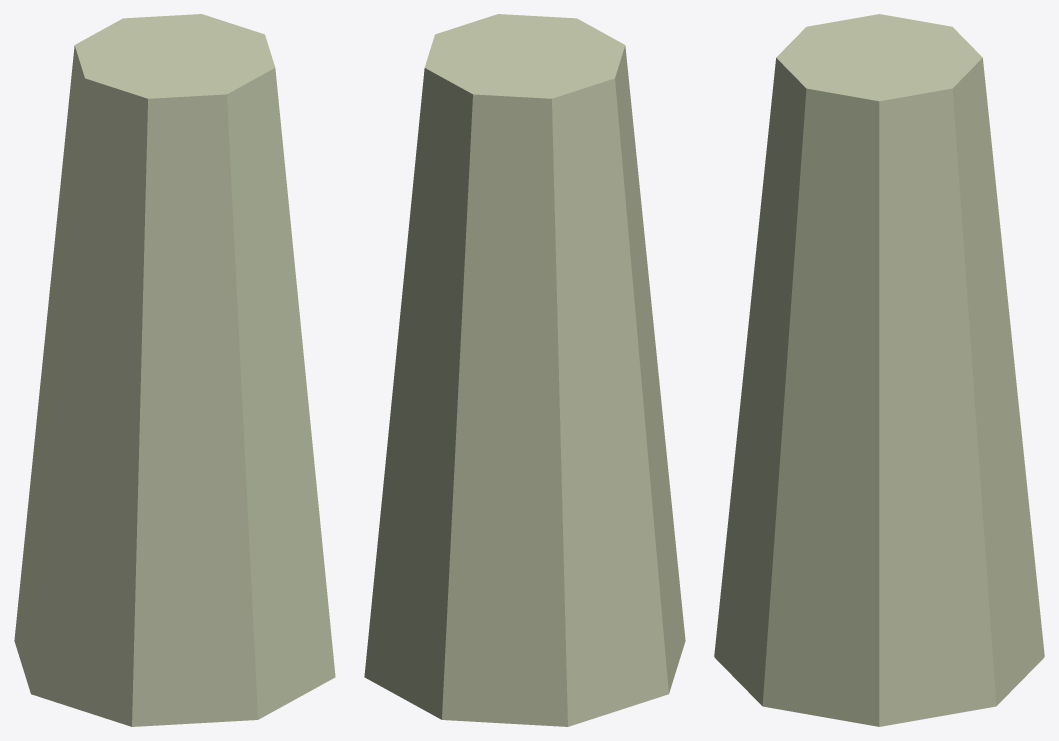
File: libra_lv_engine_s0_1_collider.obj
3 renders of one model, left to right at view 1: azimuth 30°, elevation 25°; view 2: azimuth 150°, elevation 25°; view 3: azimuth 270°, elevation 25°, orthographic.
Visible parts, largest first — view 1: collider; view 2: collider; view 3: collider.
Boxes of the visible parts, box(x1,y1,x2,y2) form: collider: box(14, 14, 335, 726); collider: box(364, 14, 685, 726); collider: box(714, 14, 1044, 726).
Bounding box in the file's own units: 1 × 2 × 1.
